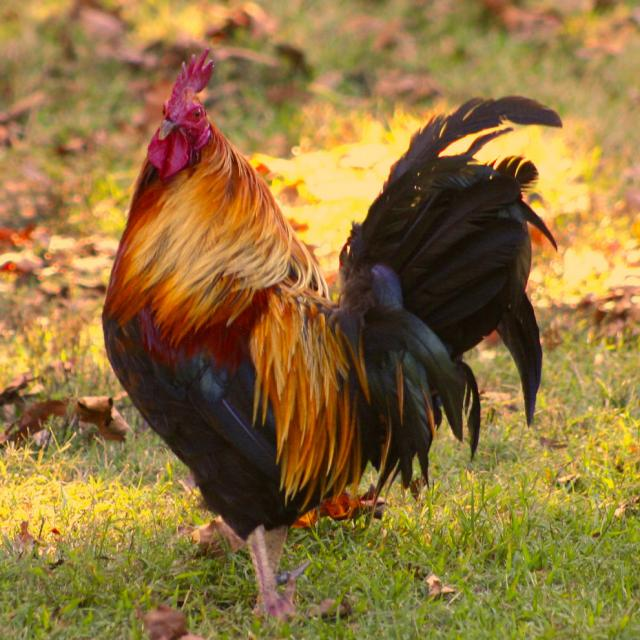Chicken: (96, 56, 516, 617)
